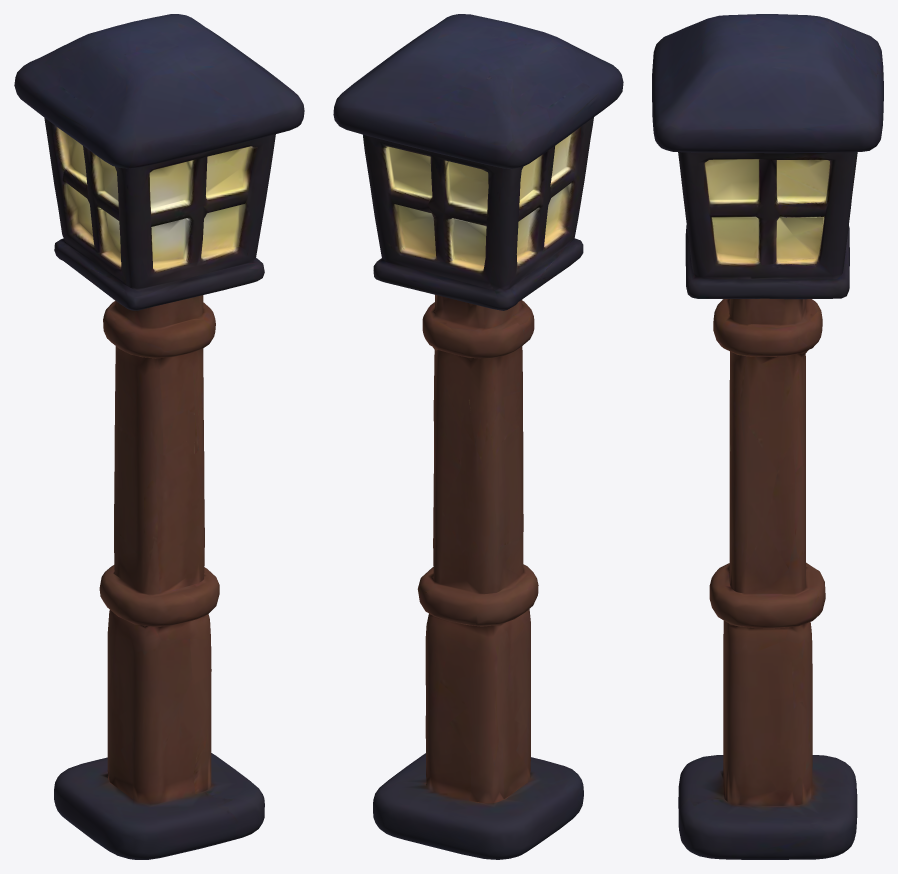
File: 45-poste.glb
The picture shows the model from 3 angles, left to right: view 1: azimuth 30°, elevation 25°; view 2: azimuth 150°, elevation 25°; view 3: azimuth 270°, elevation 25°; orthographic projection.
Visible parts, largest first — view 1: tripo_node_c3396098-df68-4eb4-b3f6-685774755eb1; view 2: tripo_node_c3396098-df68-4eb4-b3f6-685774755eb1; view 3: tripo_node_c3396098-df68-4eb4-b3f6-685774755eb1.
Boxes of the visible parts, left/top/right/bottom form: tripo_node_c3396098-df68-4eb4-b3f6-685774755eb1: left=14, top=14, right=304, bottom=859; tripo_node_c3396098-df68-4eb4-b3f6-685774755eb1: left=333, top=14, right=623, bottom=859; tripo_node_c3396098-df68-4eb4-b3f6-685774755eb1: left=652, top=14, right=883, bottom=859.
Bounding box in the file's own units: 0.2635 × 1 × 0.2646.
Materials: 1 (1 with a texture image).
